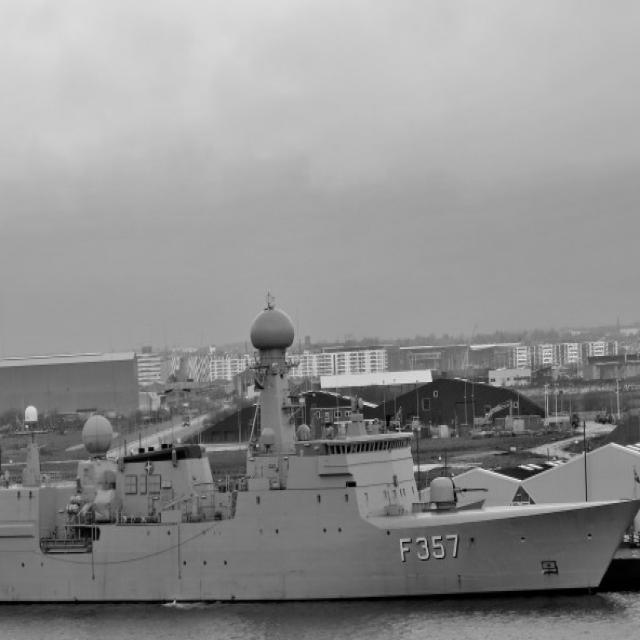Fragata: (1, 288, 640, 618)
